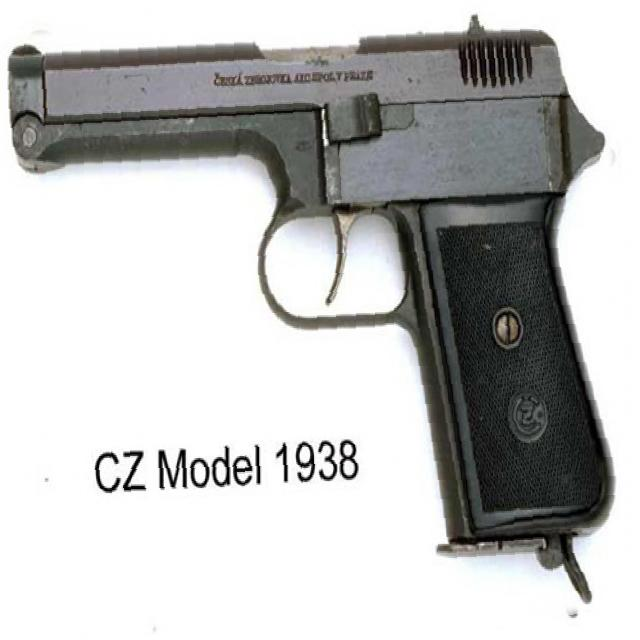gun: (2, 6, 635, 635)
